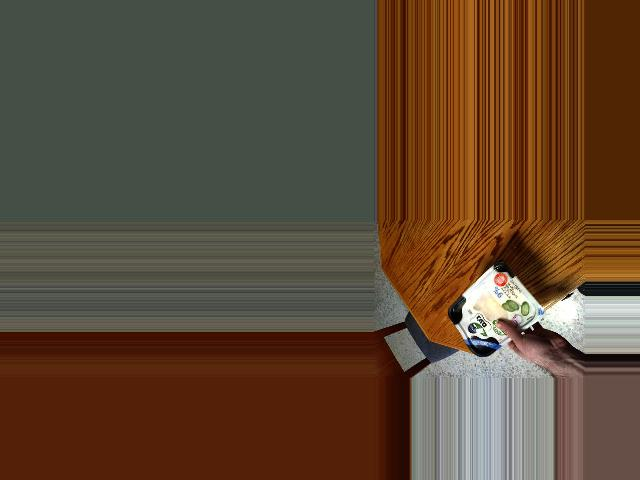cheese: (446, 271, 528, 349)
